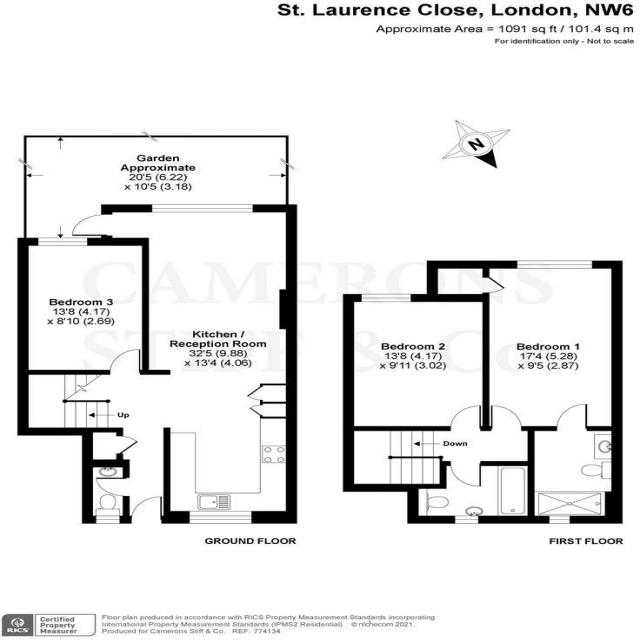DOOR: (128, 494, 165, 524), (71, 212, 113, 237), (555, 403, 589, 431), (489, 404, 524, 431), (447, 461, 482, 488), (109, 348, 143, 375), (448, 404, 483, 430)
ROOM: (71, 204, 298, 524), (427, 260, 622, 431), (343, 294, 490, 431), (17, 237, 150, 375)
WINDOW: (149, 203, 255, 214), (187, 509, 253, 524), (515, 260, 594, 270), (36, 237, 89, 247), (359, 293, 412, 303), (452, 515, 481, 524), (547, 515, 570, 525), (94, 516, 121, 524)
